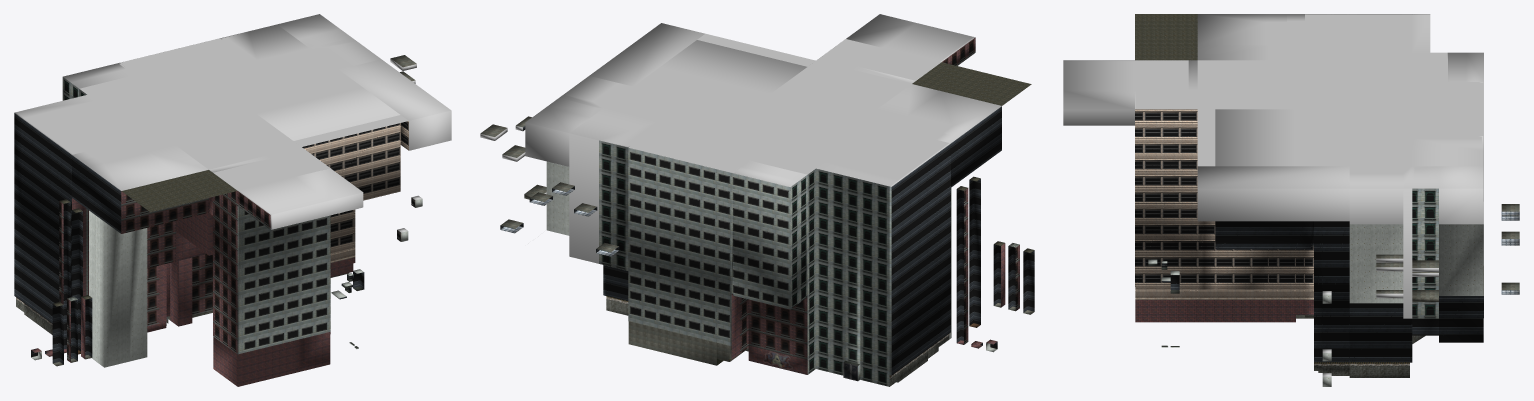
The model's file is City.fbx.
The picture shows the model from 3 angles, left to right: view 1: azimuth 30°, elevation 25°; view 2: azimuth 150°, elevation 25°; view 3: azimuth 270°, elevation 25°; orthographic projection. The views are drawn at different scales.
Parts seen in each view (by area): view 1: MAP01; view 2: MAP01; view 3: MAP01.
Part boxes in pixels (x1=…): MAP01: x1=14, y1=14, x2=451, y2=386; MAP01: x1=480, y1=14, x2=1034, y2=386; MAP01: x1=1063, y1=14, x2=1519, y2=386.
Size of the model in its own units: 396800 by 175200 by 326400.
